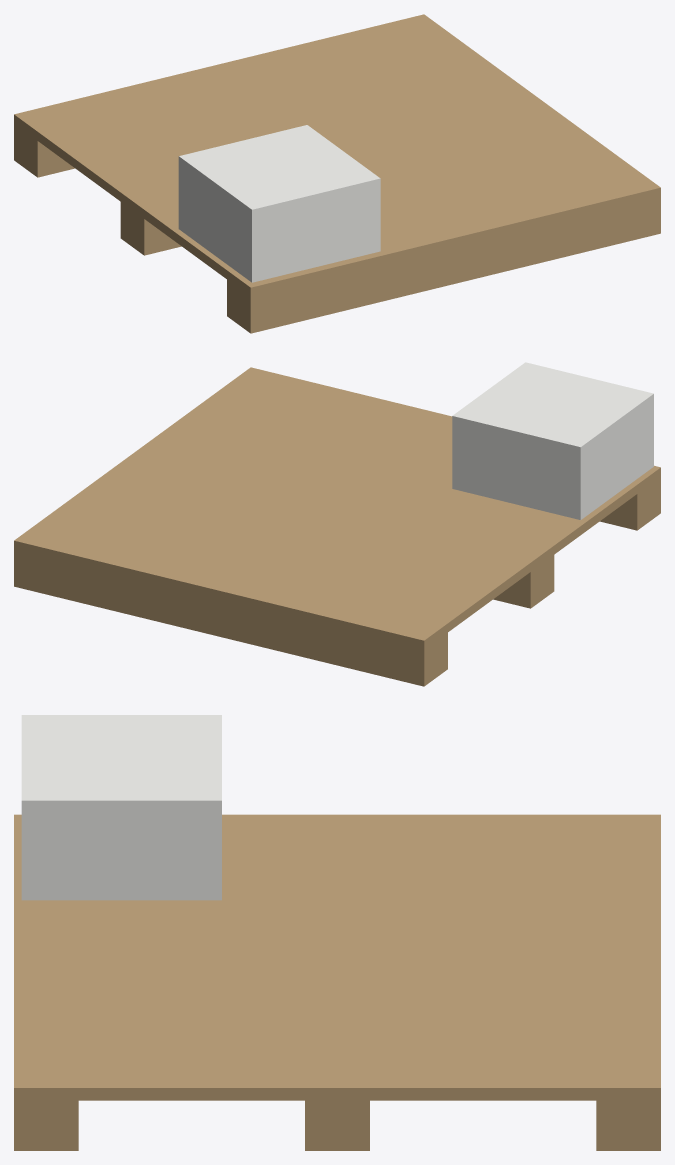
Rendered from pallet_mp_01.glb.
The picture shows the model from 3 angles, top to bottom: view 1: azimuth 30°, elevation 25°; view 2: azimuth 150°, elevation 25°; view 3: azimuth 270°, elevation 25°; orthographic projection. The views are drawn at different scales.
Visible parts, largest first — view 1: PalletMP; view 2: PalletMP; view 3: PalletMP.
Part boxes in pixels (x1=…): PalletMP: x1=14, y1=14, x2=660, y2=333; PalletMP: x1=14, y1=362, x2=660, y2=686; PalletMP: x1=14, y1=715, x2=660, y2=1150.
Size of the model in its own units: 1 by 0.2814 by 1.
